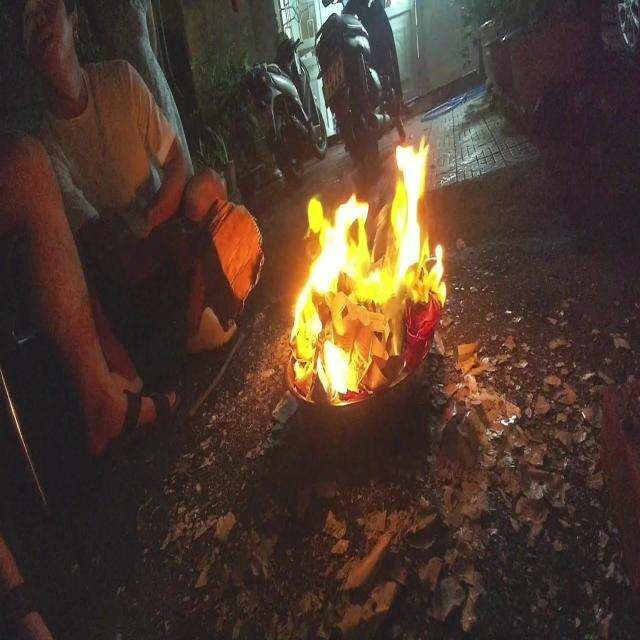Fire: (290, 133, 448, 400)
